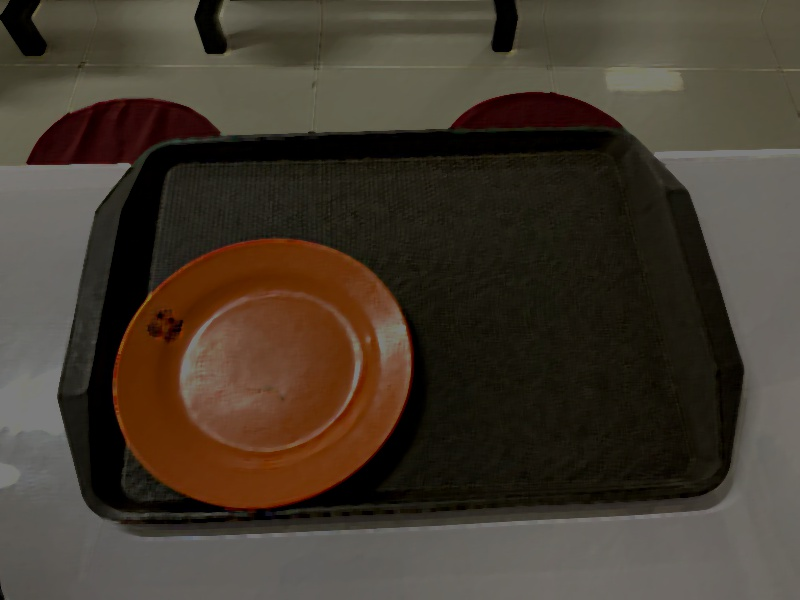dish10: (113, 235, 420, 513)
